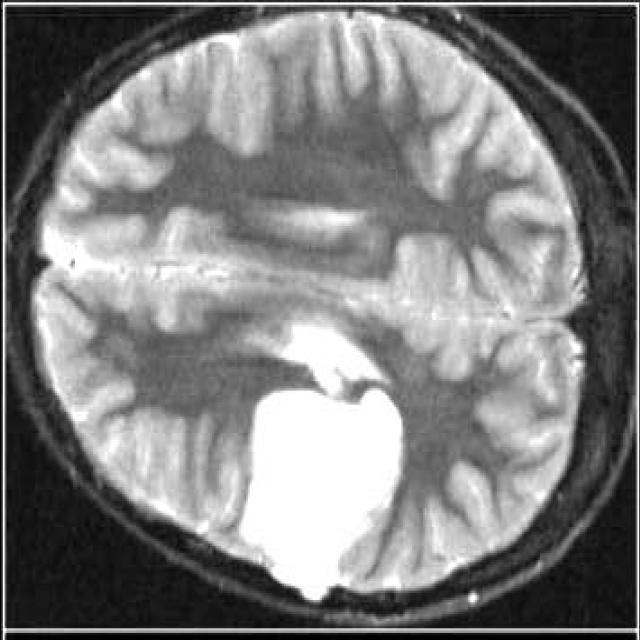tumor: (159, 386, 404, 602)
